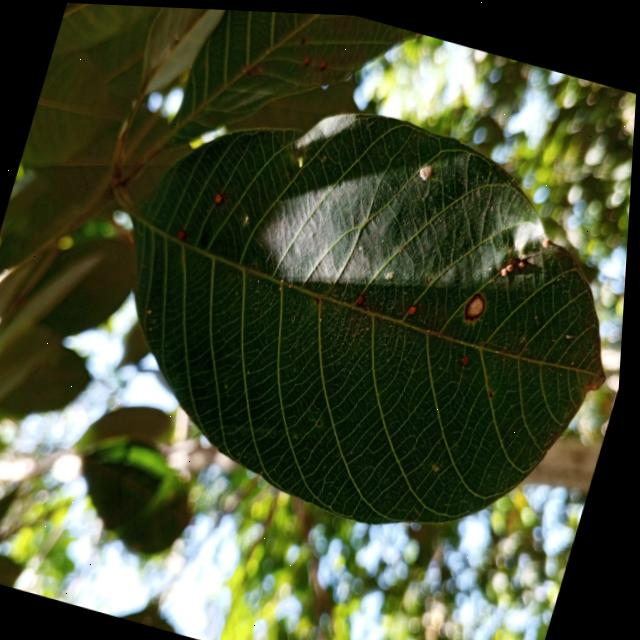Colletotrichum: (463, 284, 491, 319)
